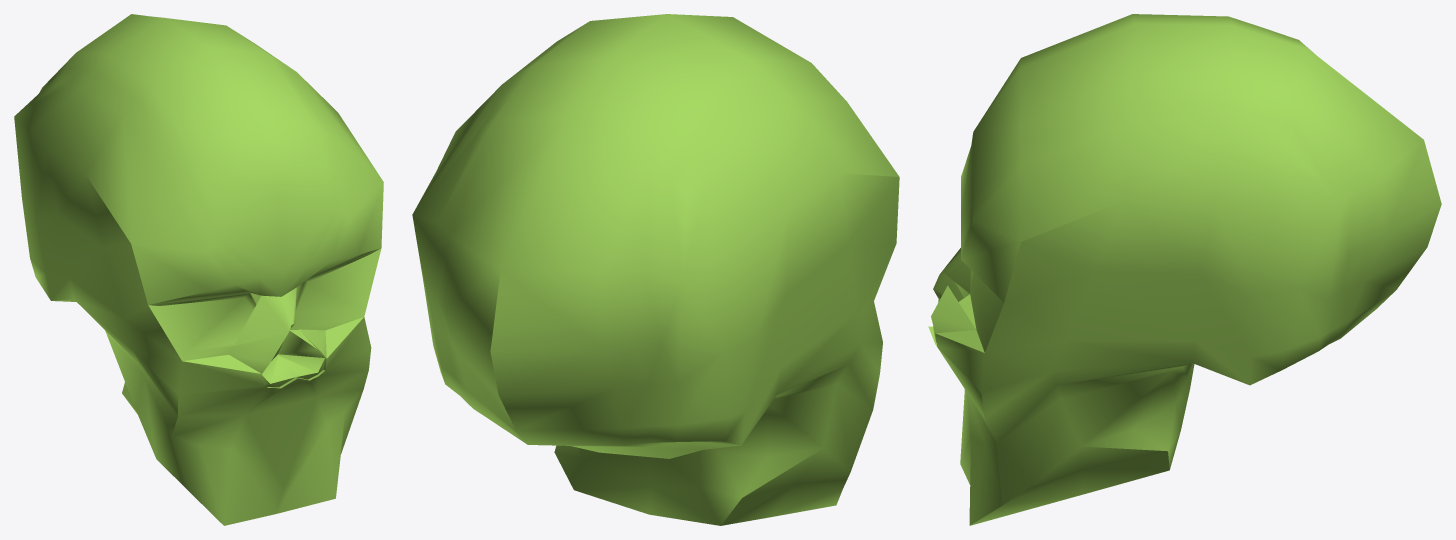
The picture shows the model from 3 angles, left to right: view 1: azimuth 30°, elevation 25°; view 2: azimuth 150°, elevation 25°; view 3: azimuth 270°, elevation 25°; orthographic projection. The views are drawn at different scales.
Parts seen in each view (by area): view 1: Object_2; view 2: Object_2; view 3: Object_2.
Boxes of the visible parts, x1=… form: Object_2: x1=14, y1=14, x2=383, y2=525; Object_2: x1=412, y1=14, x2=899, y2=525; Object_2: x1=928, y1=14, x2=1441, y2=525.
Size of the model in its own units: 0.6356 by 1 by 0.9784.
